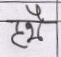ai_matra: (26, 4, 45, 21)
